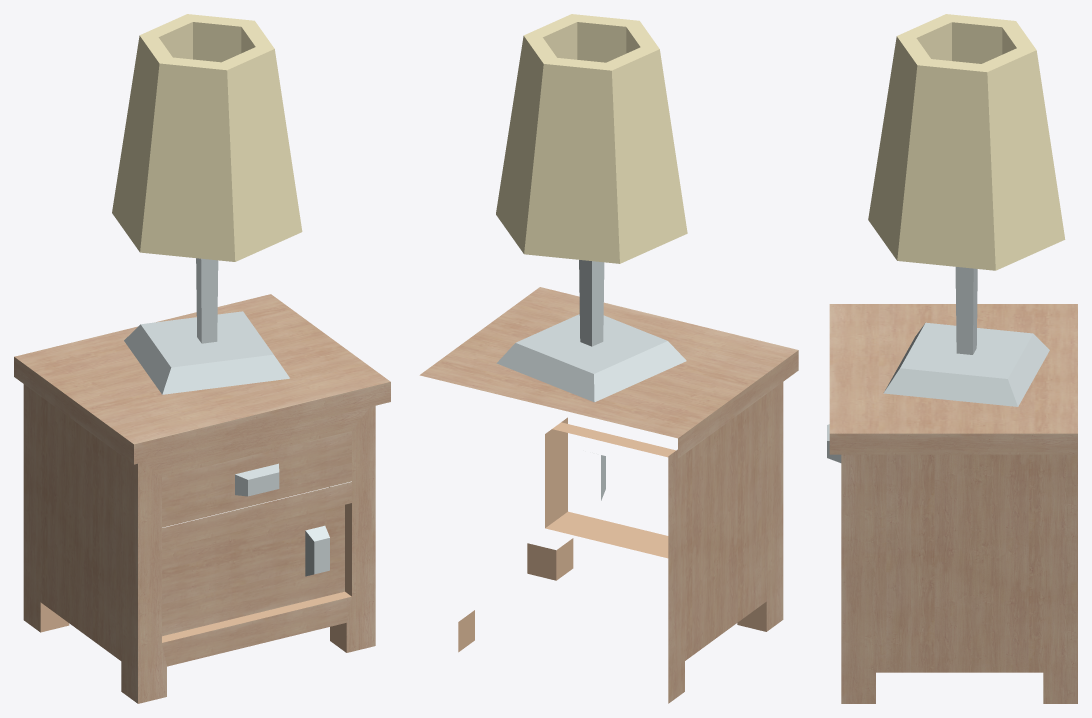
The model's file is comodino-texture.glb.
3 renders of one model, left to right at view 1: azimuth 30°, elevation 25°; view 2: azimuth 150°, elevation 25°; view 3: azimuth 270°, elevation 25°, orthographic. The views are drawn at different scales.
Visible parts, largest first — view 1: cabinetBedDrawer(Clone), lampRoundTable(Clone), door, drawer; view 2: cabinetBedDrawer(Clone), lampRoundTable(Clone), door; view 3: cabinetBedDrawer(Clone), lampRoundTable(Clone).
Part boxes in pixels (x1,y1,x2,y2): cabinetBedDrawer(Clone): [14, 294, 390, 703]; lampRoundTable(Clone): [112, 14, 302, 394]; door: [162, 504, 344, 636]; drawer: [162, 431, 351, 527]; cabinetBedDrawer(Clone): [419, 287, 798, 703]; lampRoundTable(Clone): [496, 14, 687, 402]; door: [552, 422, 675, 500]; cabinetBedDrawer(Clone): [829, 304, 1077, 703]; lampRoundTable(Clone): [868, 14, 1065, 406].
Bounding box in the file's own units: 0.266 × 0.5798 × 0.2173.
Materials: 4 (1 with a texture image).
